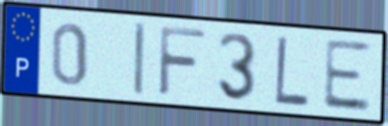0: (49, 20, 93, 87)
3: (216, 31, 258, 103)
E: (320, 37, 373, 114)
F: (155, 23, 208, 100)
I: (131, 20, 148, 98)
L: (273, 33, 311, 110)
